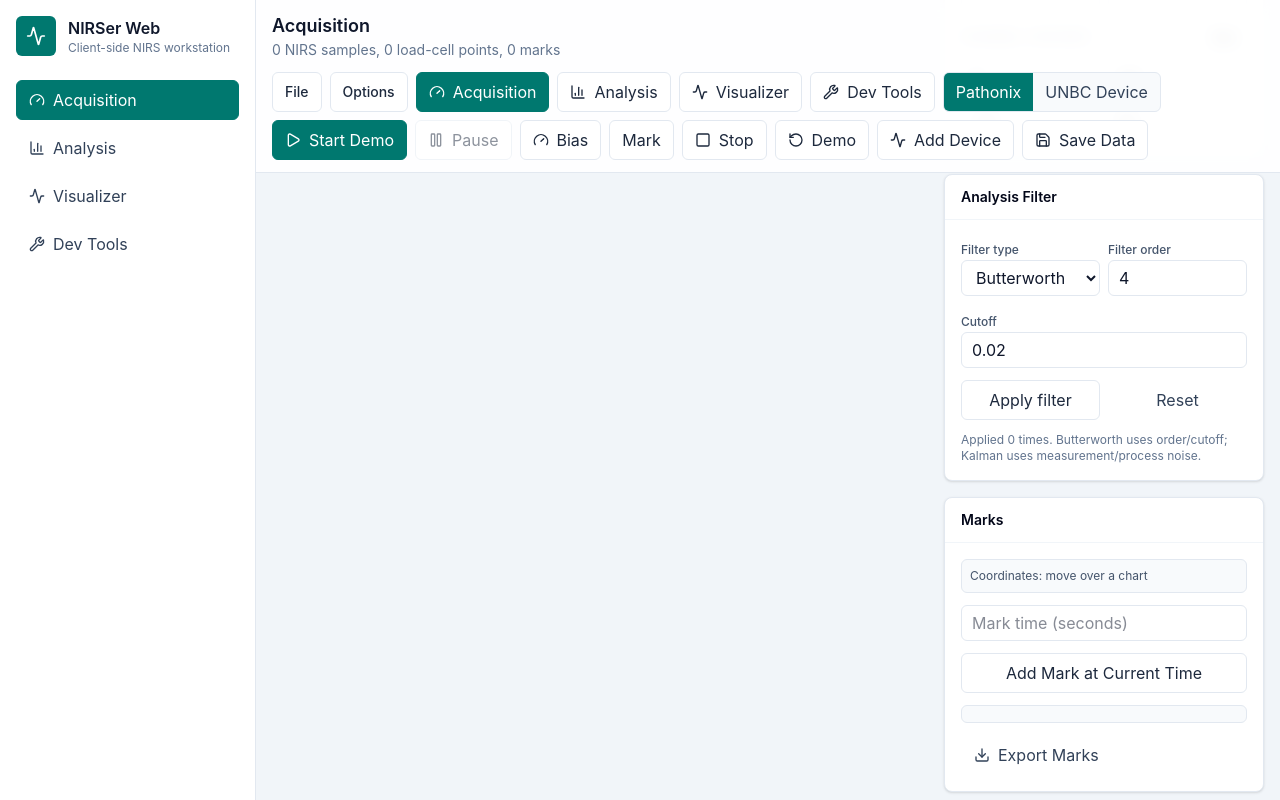
Scenario: Analysis filter › counts applied passes and resets them
(page scrolled)
Expected: the text "Applied 0 times." is shown, [961,432,1247,464]
Click the button "Apply filter": (1030, 400) [961,380,1100,420]
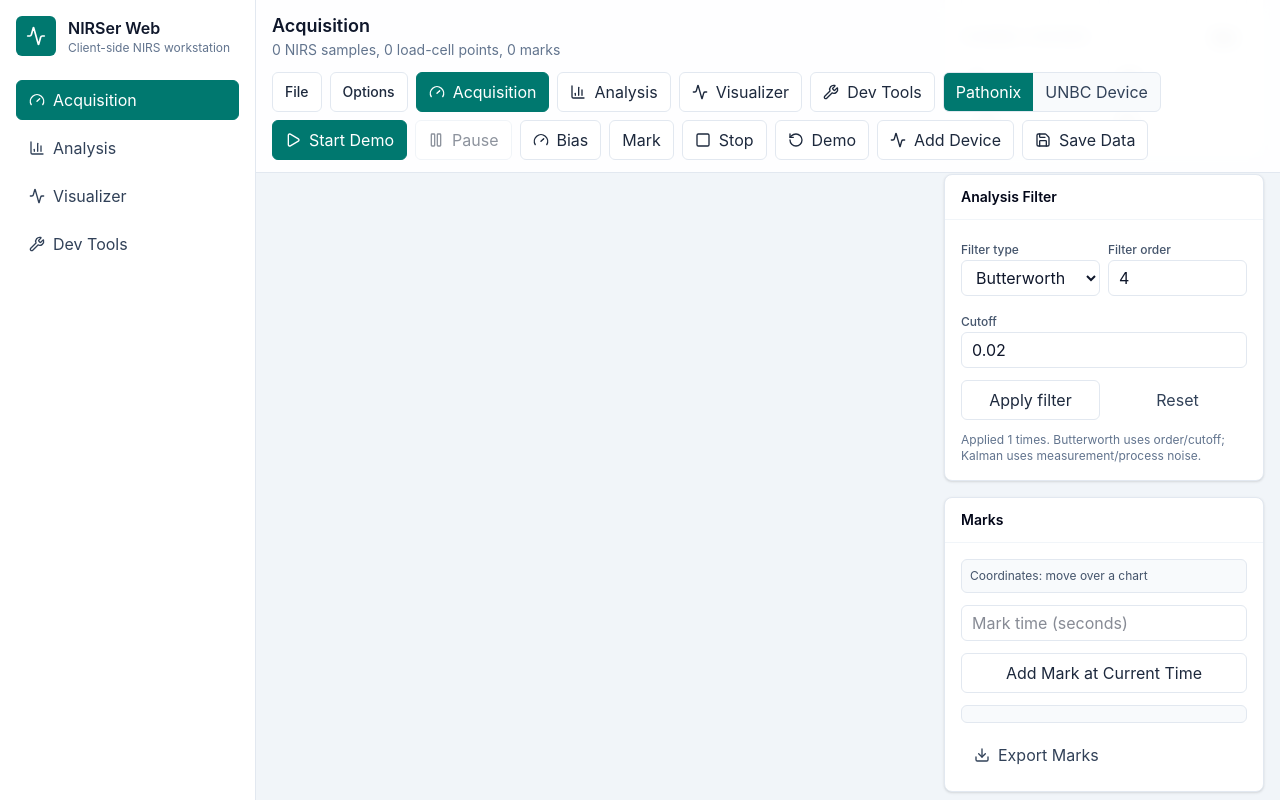
Now the text "Applied 1 times." is shown, box [961,432,1247,464]
Click the button "Apply filter": (1030, 400) [961,380,1100,420]
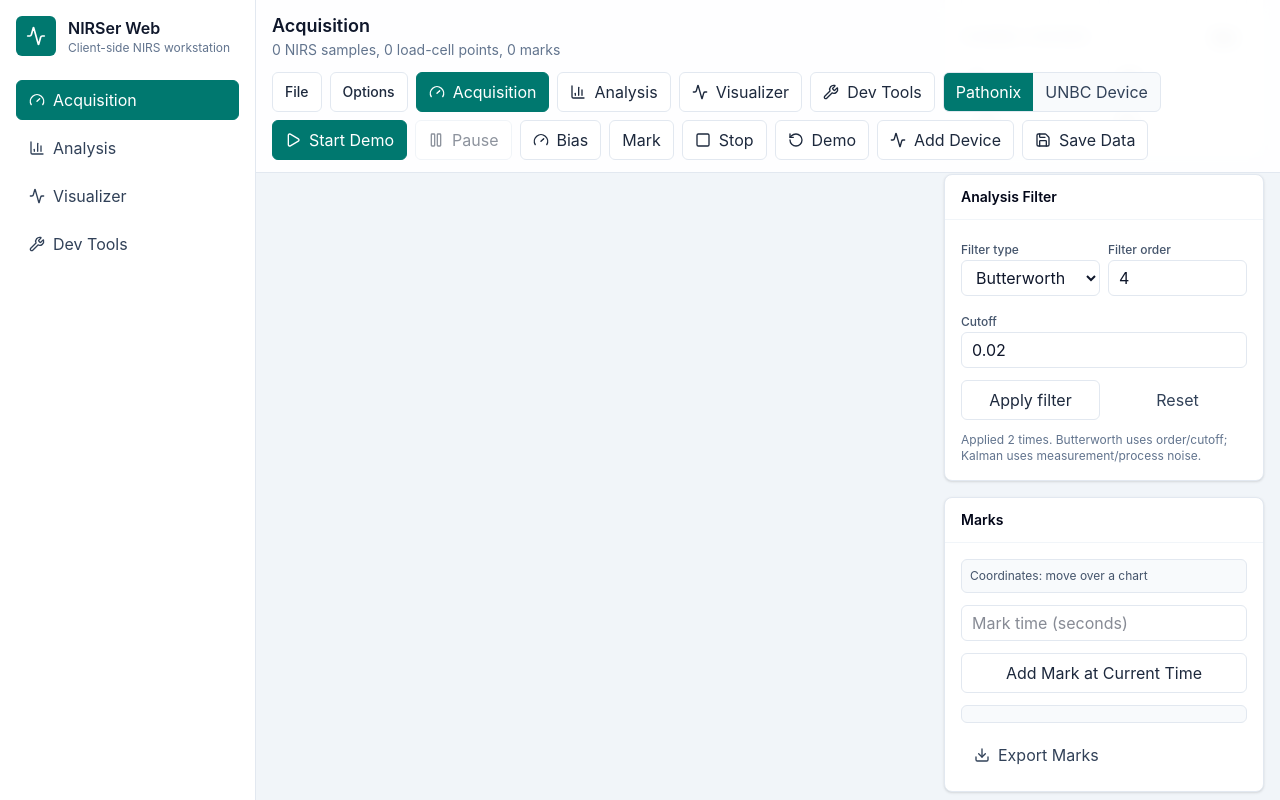
Now the text "Applied 2 times." is shown, box [961,432,1247,464]
Click the button "Reset": (1178, 400) [1108,380,1247,420]
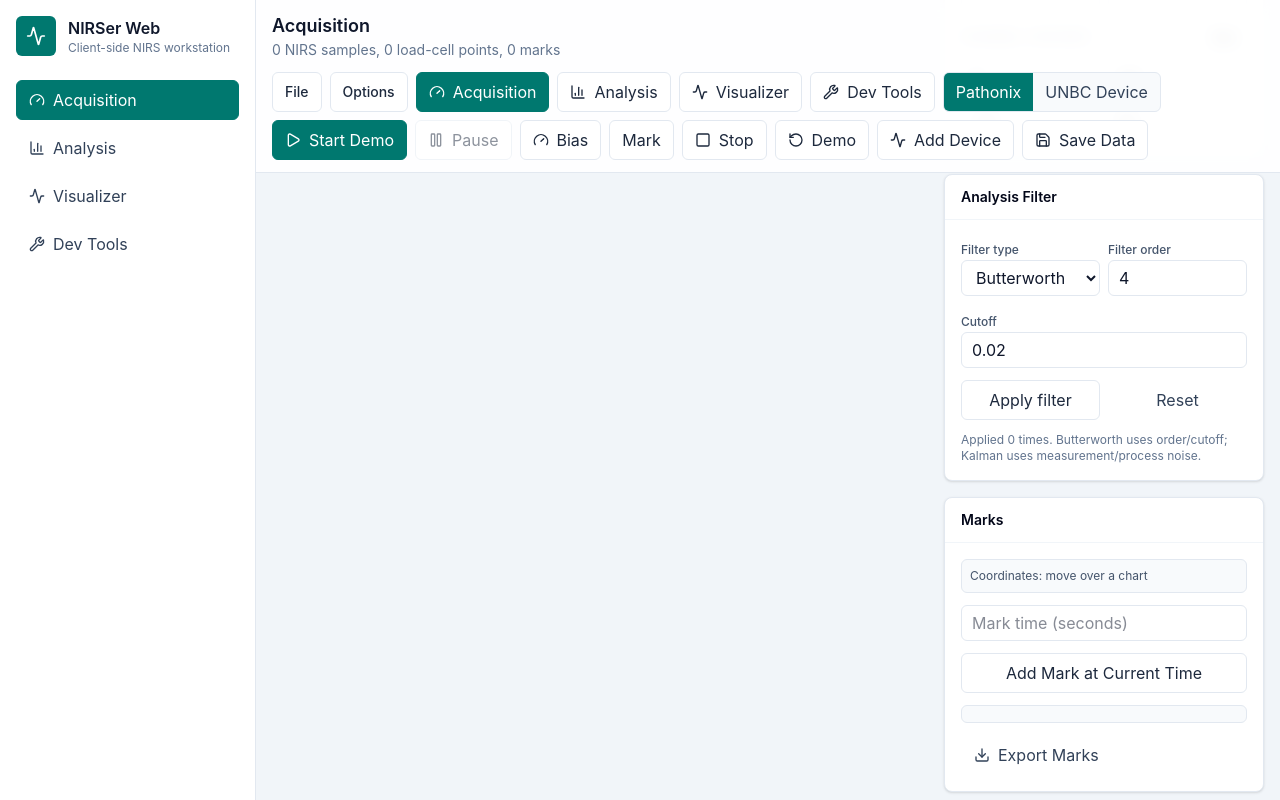
Now the text "Applied 0 times." is shown, box [961,432,1247,464]
